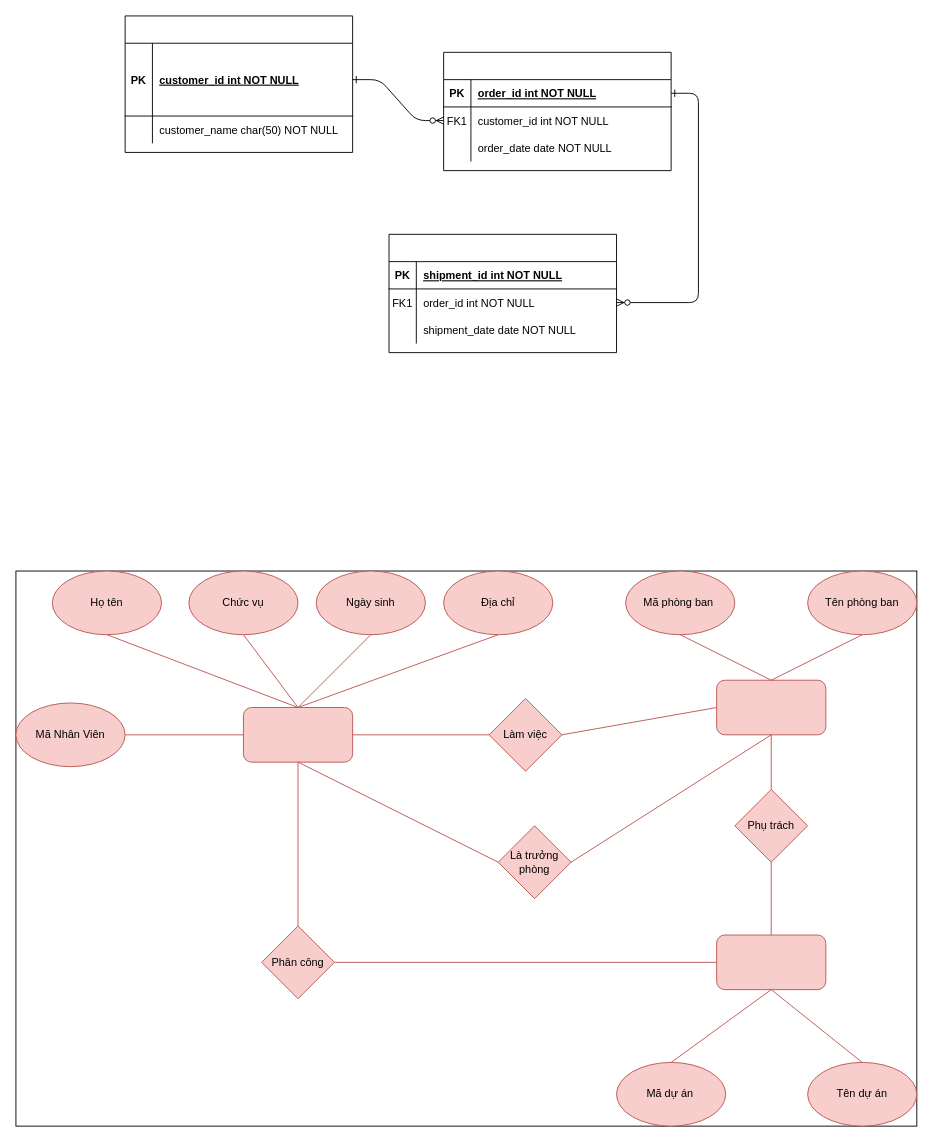
Image size: 933x1142. Some labels were removed from this diagram. Each missing label, with the box of its shape:
Customers: (124, 15, 353, 152)
Dự án: (716, 934, 826, 990)
Nhân viên: (243, 707, 353, 762)
Orders: (443, 51, 671, 171)
Phòng ban: (716, 679, 826, 735)
Shipments: (388, 233, 617, 353)
